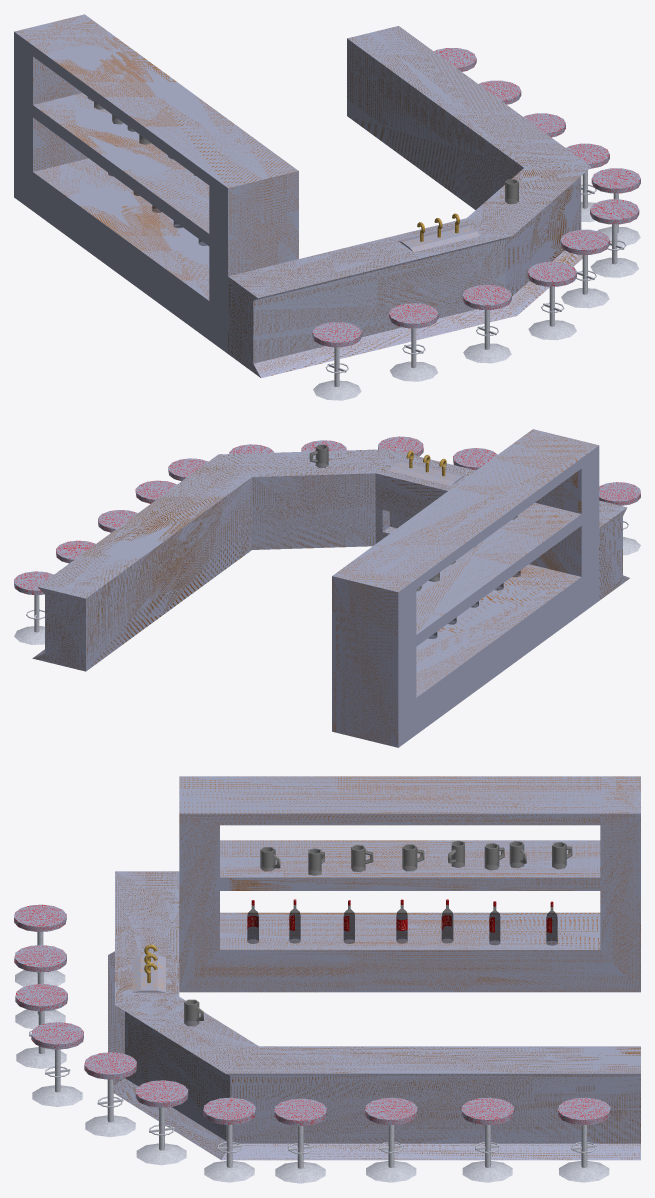
Rendered from bar.dae.
The picture shows the model from 3 angles, top to bottom: view 1: azimuth 30°, elevation 25°; view 2: azimuth 150°, elevation 25°; view 3: azimuth 270°, elevation 25°; orthographic projection. The views are drawn at different scales.
Visible parts, largest first — view 1: Model, Group20, Group5, Group16, Group12, Group13, Group10, Group14, Group15, Group9, Group8, Group17; view 2: Model, Group17, Group5, Group12, Group16, Group15, Group14, Group9, Group8; view 3: Model, Group13, Group14, Group8, Group15, Group17, Group10, Group16, Group9, Group12, Group20, Group5.
Boxes of the visible parts, left/top/right/bottom form: Model: left=14, top=14, right=590, bottom=378; Group20: left=389, top=303, right=438, bottom=381; Group5: left=312, top=322, right=361, bottom=400; Group16: left=527, top=261, right=576, bottom=340; Group12: left=462, top=285, right=511, bottom=363; Group13: left=560, top=229, right=609, bottom=308; Group10: left=590, top=199, right=639, bottom=277; Group14: left=591, top=168, right=640, bottom=246; Group15: left=566, top=143, right=609, bottom=222; Group9: left=479, top=80, right=521, bottom=104; Group8: left=523, top=113, right=565, bottom=137; Group17: left=434, top=48, right=476, bottom=71; Model: left=32, top=429, right=629, bottom=747; Group17: left=14, top=571, right=53, bottom=644; Group5: left=599, top=482, right=640, bottom=555; Group12: left=453, top=448, right=497, bottom=470; Group16: left=378, top=436, right=423, bottom=456; Group15: left=135, top=480, right=176, bottom=503; Group14: left=168, top=458, right=208, bottom=481; Group9: left=56, top=540, right=95, bottom=563; Group8: left=98, top=510, right=137, bottom=532; Model: left=108, top=776, right=640, bottom=1160; Group13: left=84, top=1052, right=136, bottom=1137; Group14: left=203, top=1097, right=255, bottom=1182; Group8: left=365, top=1097, right=417, bottom=1182; Group15: left=274, top=1098, right=326, bottom=1183; Group17: left=558, top=1097, right=610, bottom=1182; Group10: left=135, top=1080, right=188, bottom=1165; Group16: left=31, top=1022, right=83, bottom=1106; Group9: left=461, top=1097, right=514, bottom=1182; Group12: left=15, top=984, right=67, bottom=1068; Group20: left=14, top=945, right=66, bottom=1028; Group5: left=14, top=904, right=66, bottom=986.
Size of the model in its own units: 275 by 319 by 100.
12 materials, 6 textured.
